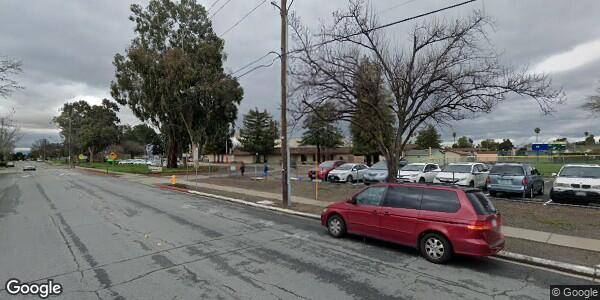Wood_Pole: (274, 1, 295, 209)
